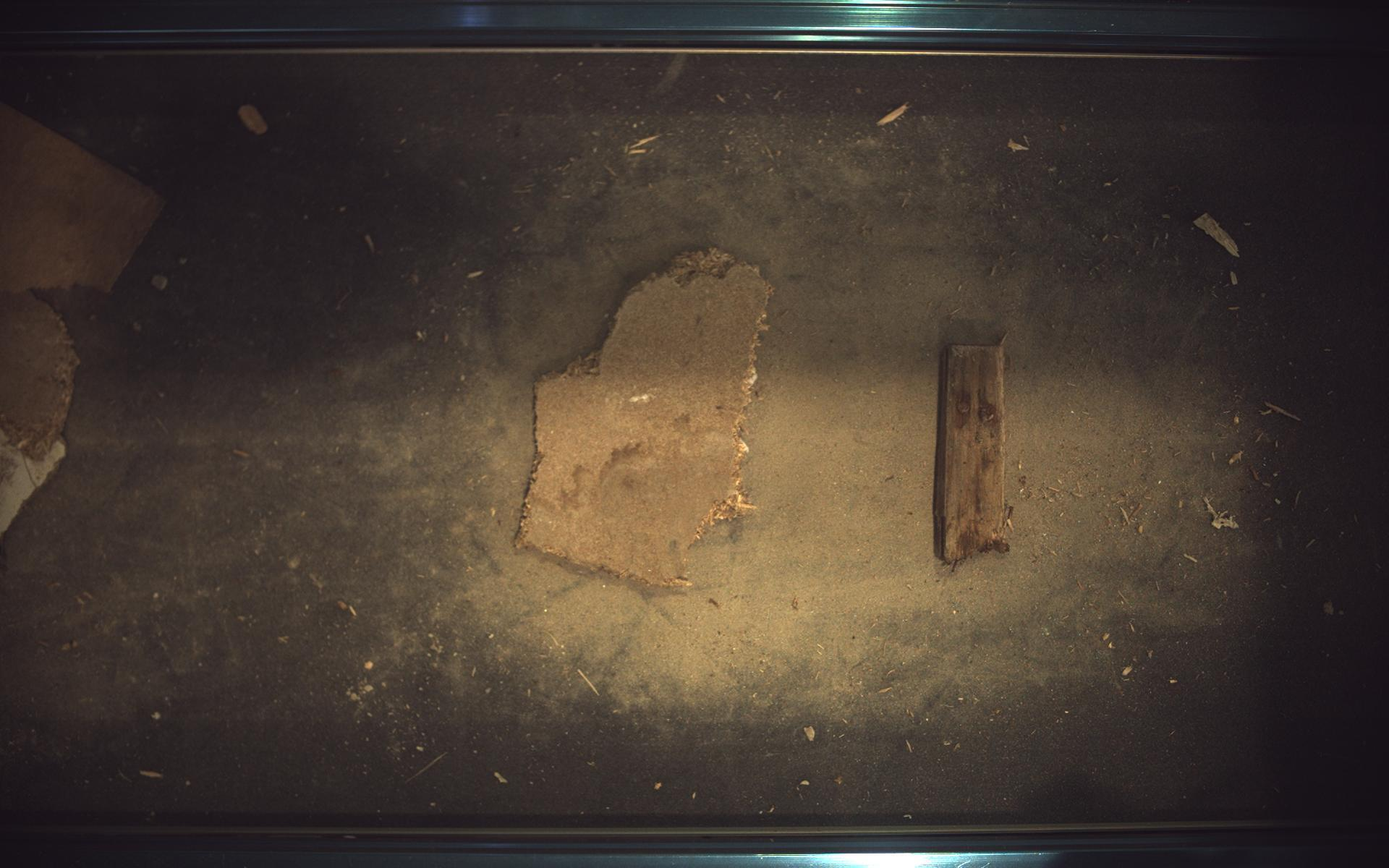wood: (517, 247, 773, 587), (935, 339, 1011, 564)
